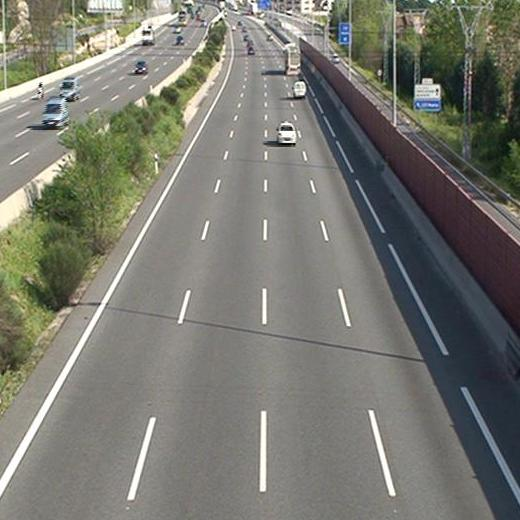car: (277, 124, 296, 144)
tank-truck: (284, 43, 300, 74)
van: (292, 82, 305, 97)
